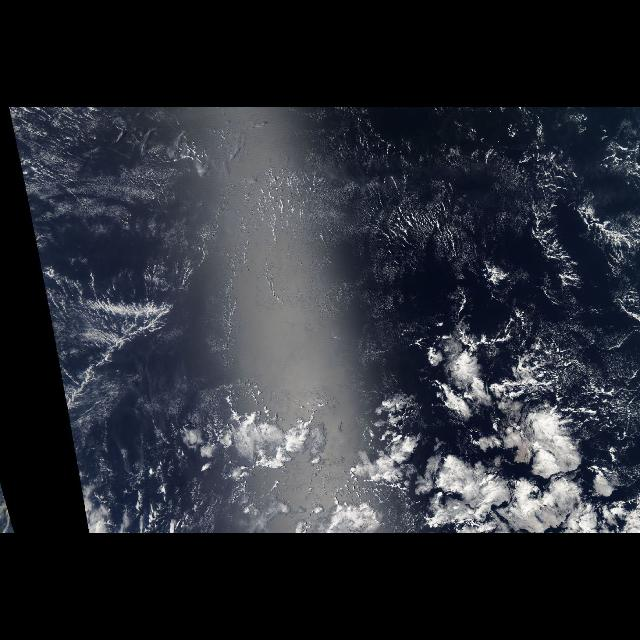Flower: (376, 336, 640, 532)
Sugar: (11, 110, 633, 350)
